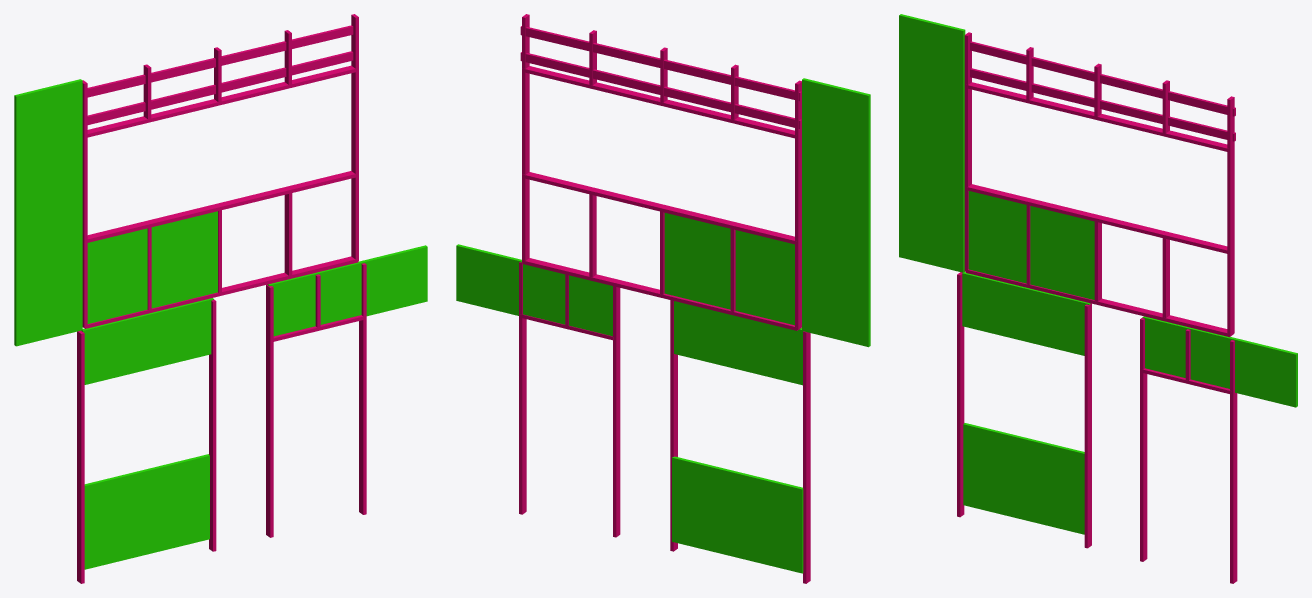
The model's file is H07C_Wall_01_Break_B.fbx.
The picture shows the model from 3 angles, left to right: view 1: azimuth 30°, elevation 25°; view 2: azimuth 150°, elevation 25°; view 3: azimuth 330°, elevation 25°; orthographic projection. The views are drawn at different scales.
Visible parts, largest first — view 1: H07C_Wall_01_Break_B; view 2: H07C_Wall_01_Break_B; view 3: H07C_Wall_01_Break_B.
Boxes of the visible parts, <box> form: H07C_Wall_01_Break_B: <box>14,14,427,583</box>; H07C_Wall_01_Break_B: <box>456,14,870,583</box>; H07C_Wall_01_Break_B: <box>899,14,1297,583</box>.
Size of the model in its own units: 516 by 601 by 14.9.
